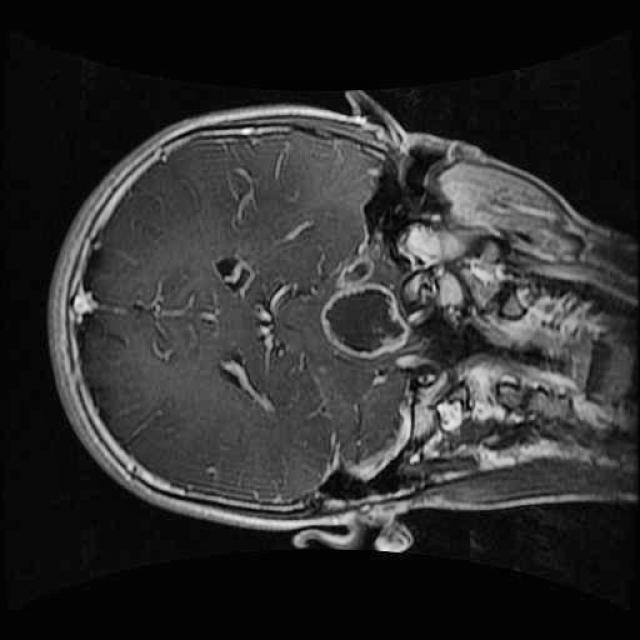Tumor: (313, 231, 423, 375)
